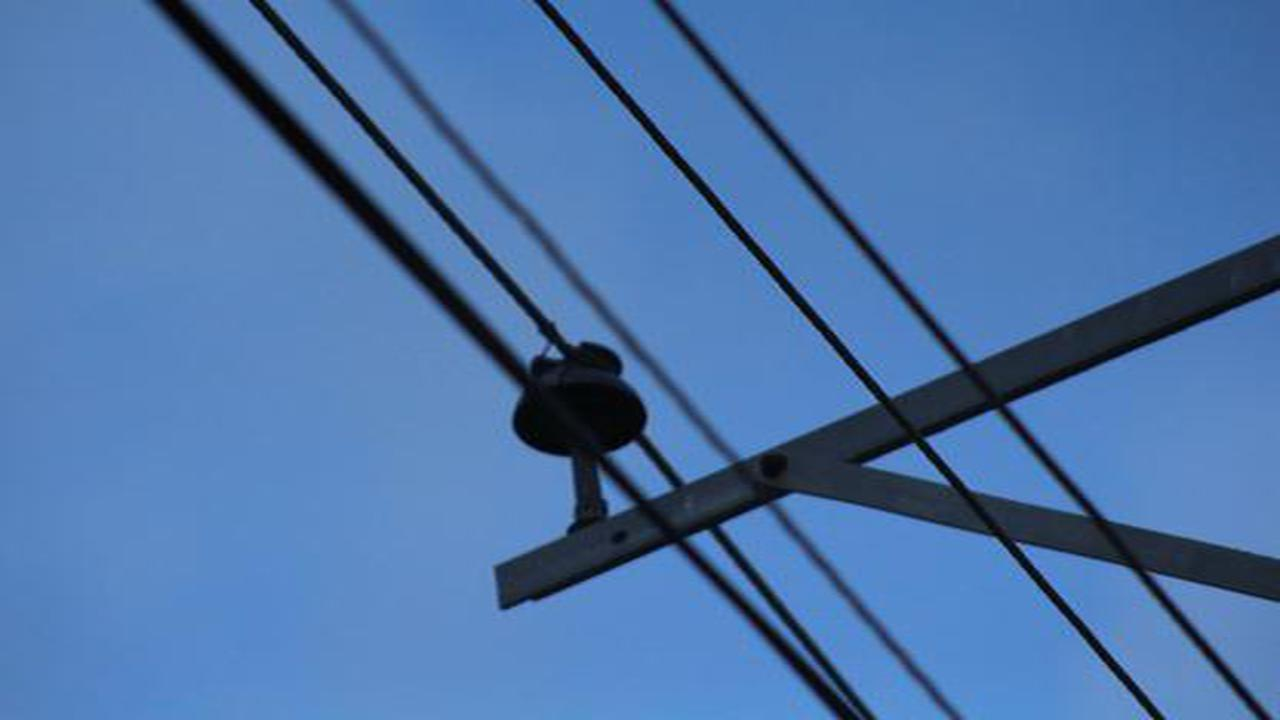insulator_pin: (506, 337, 655, 465)
